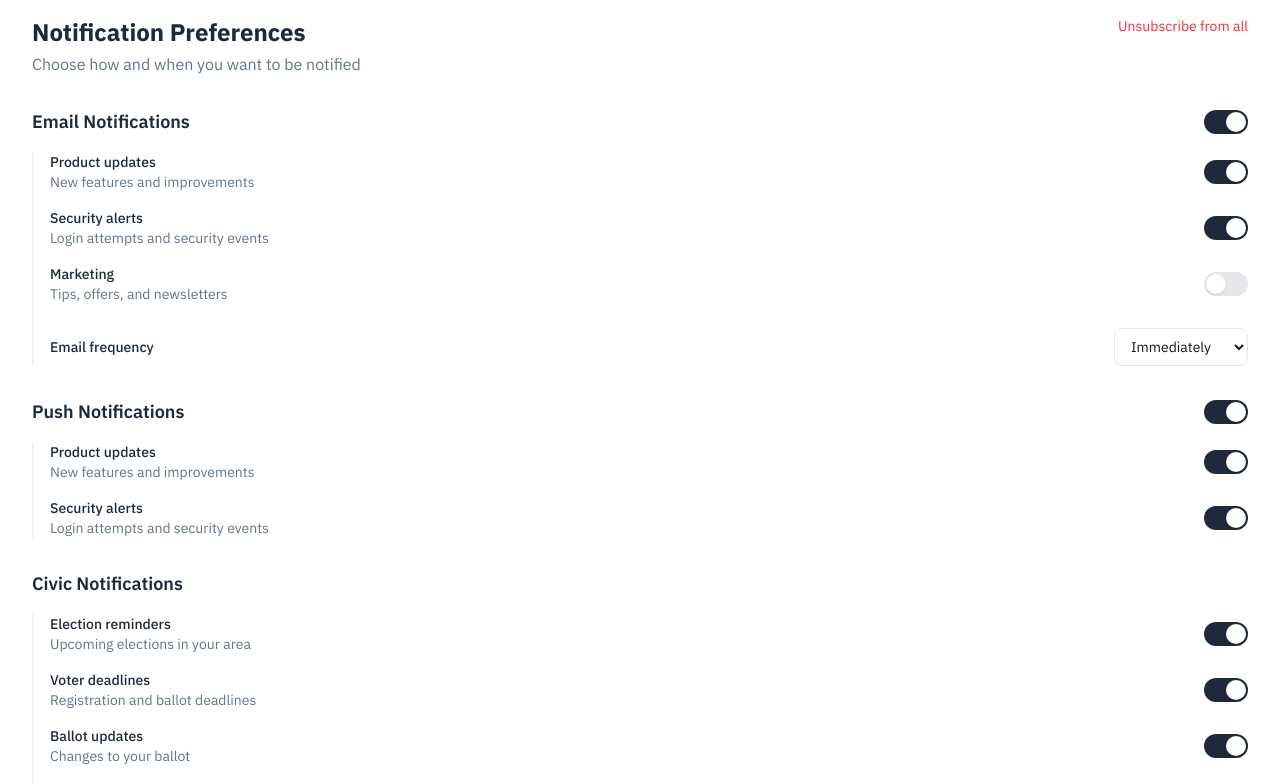
Scenario: NotificationsPage › toggle interactions › should enable save button after making changes
Click the button without text in the row of "Tips, offers, and newsletters" at [1226, 284], box [1204, 272, 1248, 296]
(page scrolled)
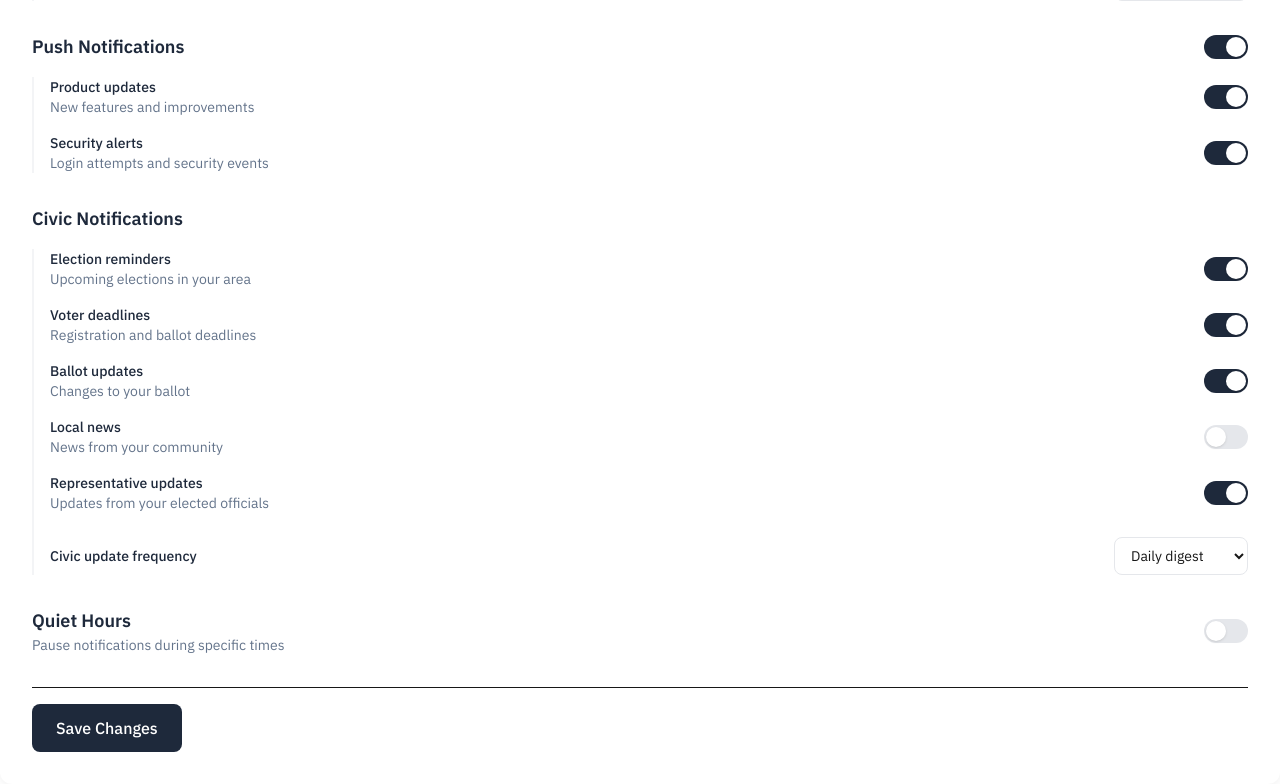
Check: the button "Save Changes" is enabled, box [32, 704, 182, 752]
